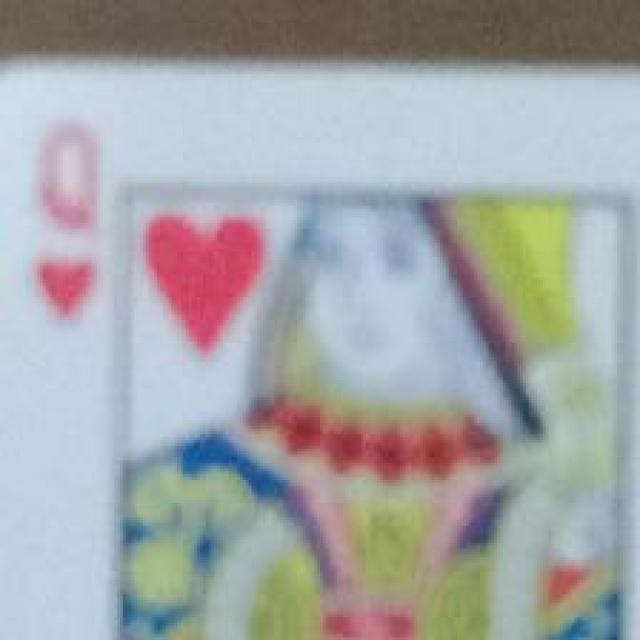Queen of hearts: (0, 68, 637, 640)
